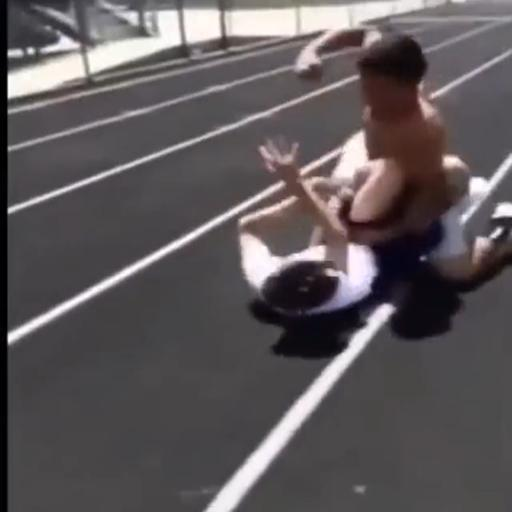violencia: (224, 12, 512, 338)
